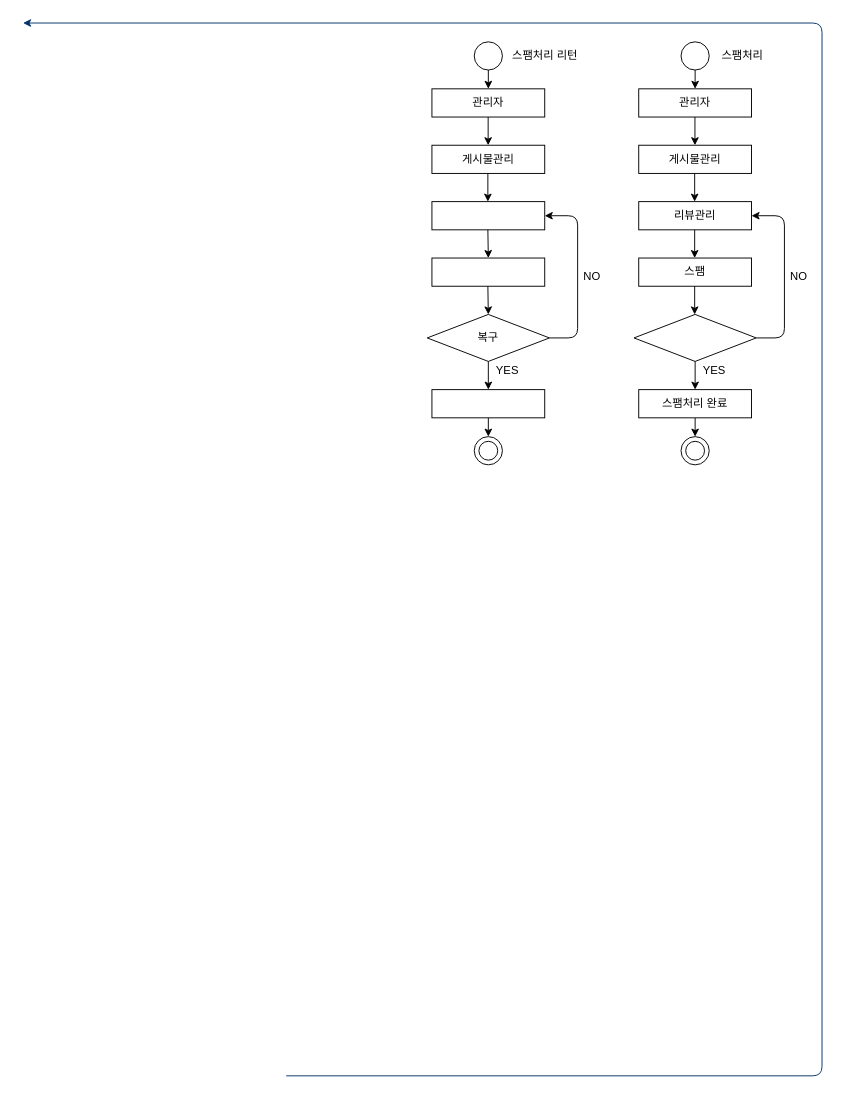
Image size: 846x1100. Some labels were removed from this diagram. The box of each missing label's shape, as (x1, y1, x2, y2) in pixels:
내용보기: (431, 257, 545, 286)
리뷰 복구 완료: (431, 389, 545, 418)
스팸글 관리: (431, 201, 545, 230)
완료 버튼: (633, 313, 756, 361)
